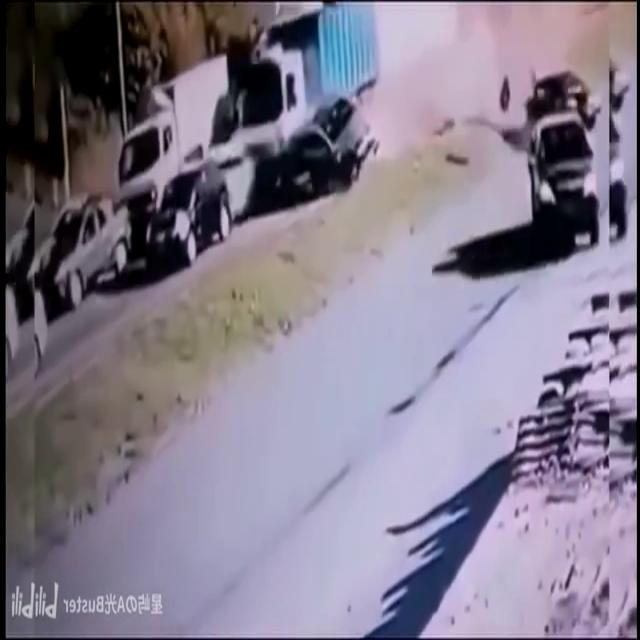accident: (265, 70, 599, 192), (201, 2, 383, 220)
non-accident: (28, 162, 230, 308), (525, 68, 601, 250)
